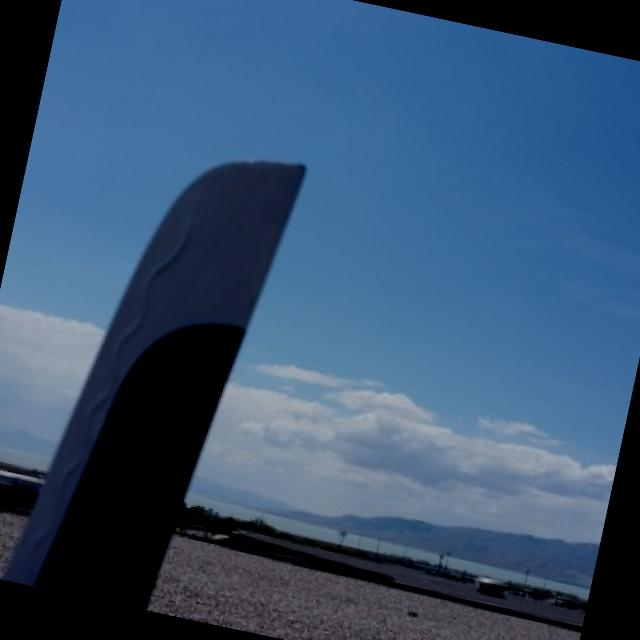healthy: (1, 161, 301, 607)
